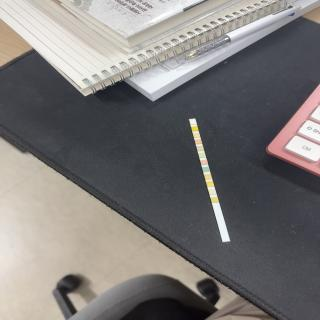mark: (205, 174, 212, 180), (202, 167, 210, 172), (195, 139, 202, 144), (197, 146, 204, 151), (201, 160, 208, 165), (209, 190, 216, 195), (211, 197, 218, 202), (206, 182, 214, 186), (189, 120, 196, 124), (193, 133, 199, 137), (192, 126, 198, 130), (199, 153, 205, 157)
